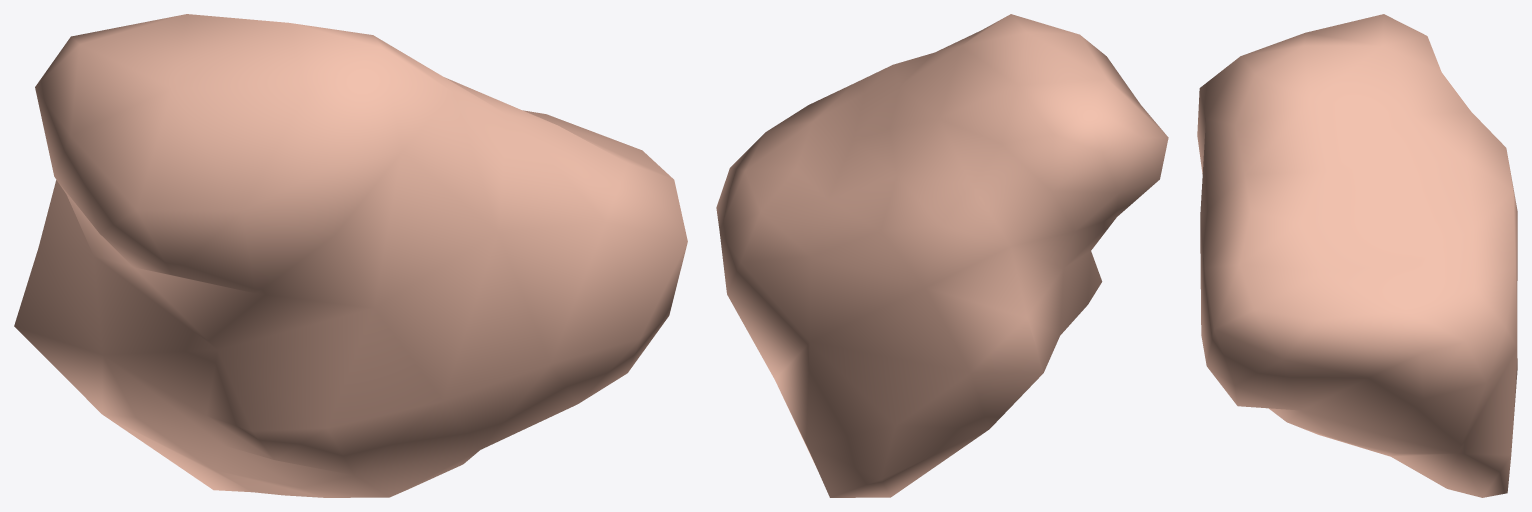
Rendered from spl-3021.glb.
3 views of the same model, side by side, from view 1: azimuth 30°, elevation 25°; view 2: azimuth 150°, elevation 25°; view 3: azimuth 270°, elevation 25° (orthographic). The views are drawn at different scales.
Visible parts, largest first — view 1: spl-3021; view 2: spl-3021; view 3: spl-3021.
Boxes of the visible parts, x1,y1,x2,y2 form: spl-3021: [14, 14, 687, 497]; spl-3021: [716, 14, 1168, 497]; spl-3021: [1197, 14, 1517, 497].
Bounding box in the file's own units: 5.84 × 5.74 × 4.14.
